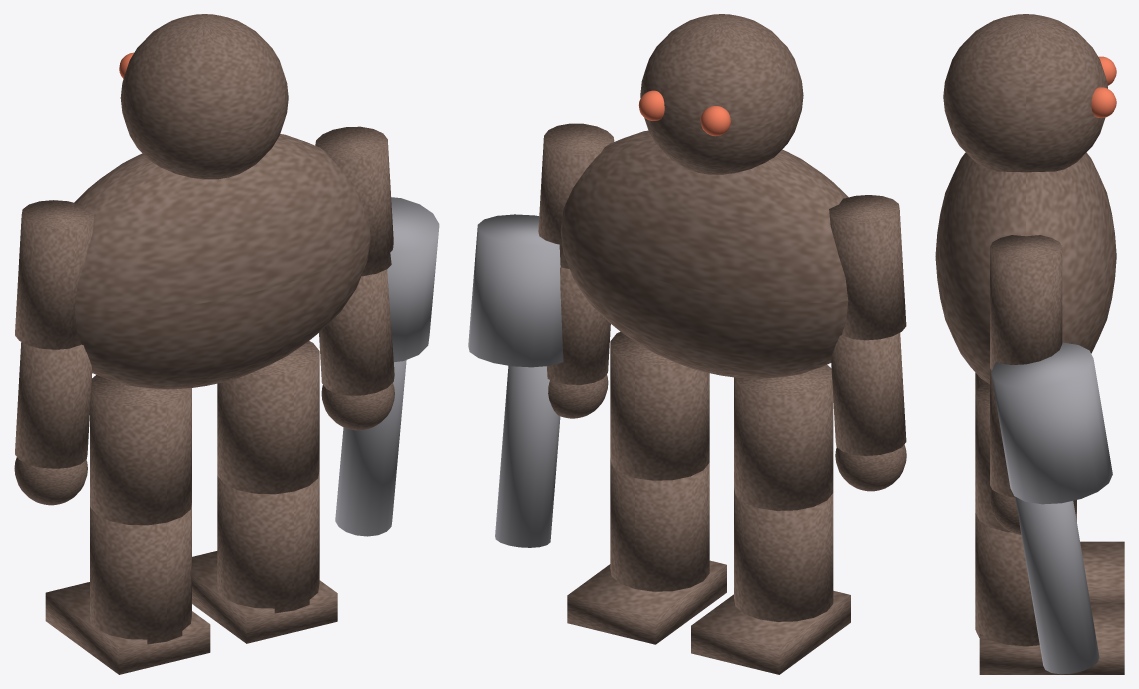
File: cave-troll.glb
The picture shows the model from 3 angles, left to right: view 1: azimuth 30°, elevation 25°; view 2: azimuth 150°, elevation 25°; view 3: azimuth 270°, elevation 25°; orthographic projection. The views are drawn at different scales.
Parts seen in each view (by area): view 1: Torso, Head, ThighL, ThighR, ShinR, ShinL, UpperArmL, ForearmL, ForearmR, ClubShaft, ClubHead, FootL (+4 smaller); view 2: Torso, Head, ThighL, ClubHead, ThighR, ShinR, ShinL, ClubShaft, UpperArmL, ForearmL, FootR, FootL (+6 smaller); view 3: Torso, Head, ClubHead, ClubShaft, UpperArmR, ShinR, FootR, FootL, ThighR, ForearmR, HandR, Eye.001 (+1 smaller).
Boxes of the visible parts, <box> form: Torso: <box>74,134,370,389</box>; Head: <box>120,14,288,179</box>; ThighL: <box>90,375,191,525</box>; ThighR: <box>217,341,319,494</box>; ShinR: <box>217,470,319,613</box>; ShinL: <box>90,503,191,644</box>; UpperArmL: <box>15,200,94,349</box>; ForearmL: <box>15,342,92,468</box>; ForearmR: <box>319,269,394,395</box>; ClubShaft: <box>335,360,406,536</box>; ClubHead: <box>387,197,439,361</box>; FootL: <box>45,582,210,674</box>; Torso: <box>560,130,848,378</box>; Head: <box>640,14,803,174</box>; ThighL: <box>734,365,833,510</box>; ClubHead: <box>468,214,563,367</box>; ThighR: <box>610,332,709,480</box>; ShinR: <box>610,458,709,591</box>; ShinL: <box>734,488,833,621</box>; ClubShaft: <box>495,365,560,547</box>; UpperArmL: <box>829,195,906,340</box>; ForearmL: <box>831,333,906,455</box>; FootR: <box>567,560,726,644</box>; FootL: <box>691,590,850,674</box>; Torso: <box>935,152,1116,384</box>; Head: <box>943,14,1107,172</box>; ClubHead: <box>991,342,1112,504</box>; ClubShaft: <box>1015,497,1099,674</box>; UpperArmR: <box>990,235,1062,370</box>; ShinR: <box>975,512,1076,646</box>; FootR: <box>979,603,1124,674</box>; FootL: <box>1080,541,1124,602</box>; ThighR: <box>975,382,1076,532</box>; ForearmR: <box>990,368,1015,497</box>; HandR: <box>990,489,1021,534</box>; Eye.001: <box>1091,87,1116,118</box>.
Size of the model in its own units: 0.7246 by 1 by 0.2852.
Materials: 4 (2 with a texture image).
